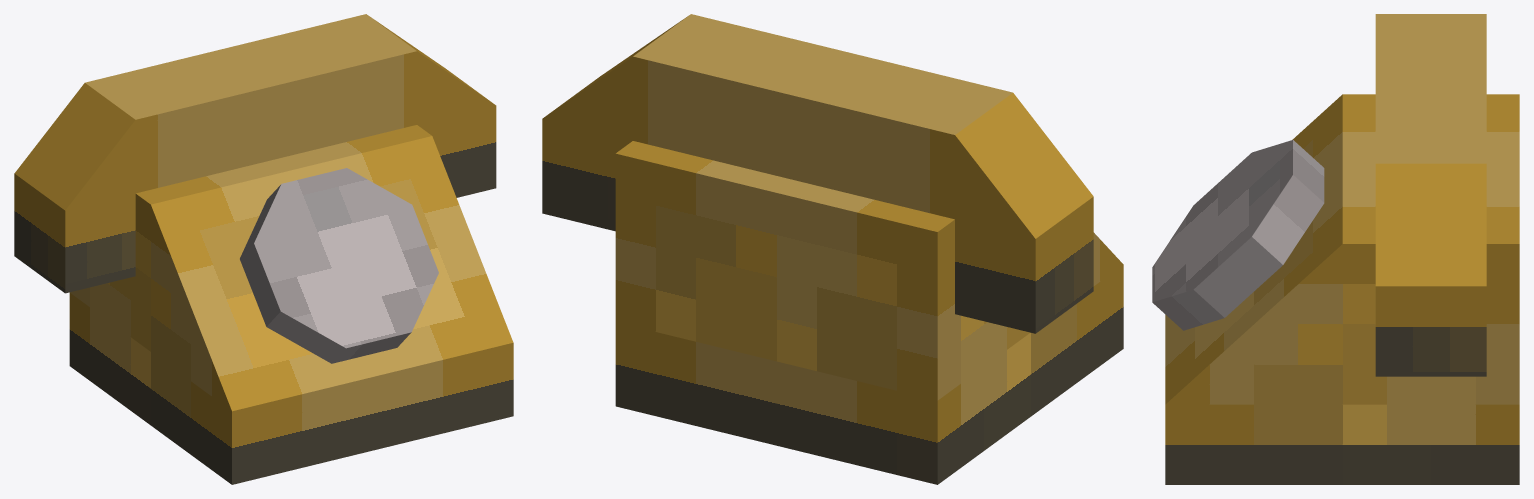
Rendered from telefon.fbx.
The picture shows the model from 3 angles, left to right: view 1: azimuth 30°, elevation 25°; view 2: azimuth 150°, elevation 25°; view 3: azimuth 270°, elevation 25°; orthographic projection. The views are drawn at different scales.
Parts seen in each view (by area): view 1: mesh; view 2: mesh; view 3: mesh.
Part boxes in pixels (x1=…): mesh: x1=14, y1=14, x2=513, y2=484; mesh: x1=542, y1=14, x2=1123, y2=484; mesh: x1=1152, y1=14, x2=1519, y2=484.
Bounding box in the file's own units: 76.56 × 50 × 51.86.
1 material, 1 textured.
